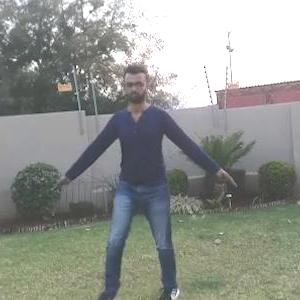land: (59, 66, 227, 294)
